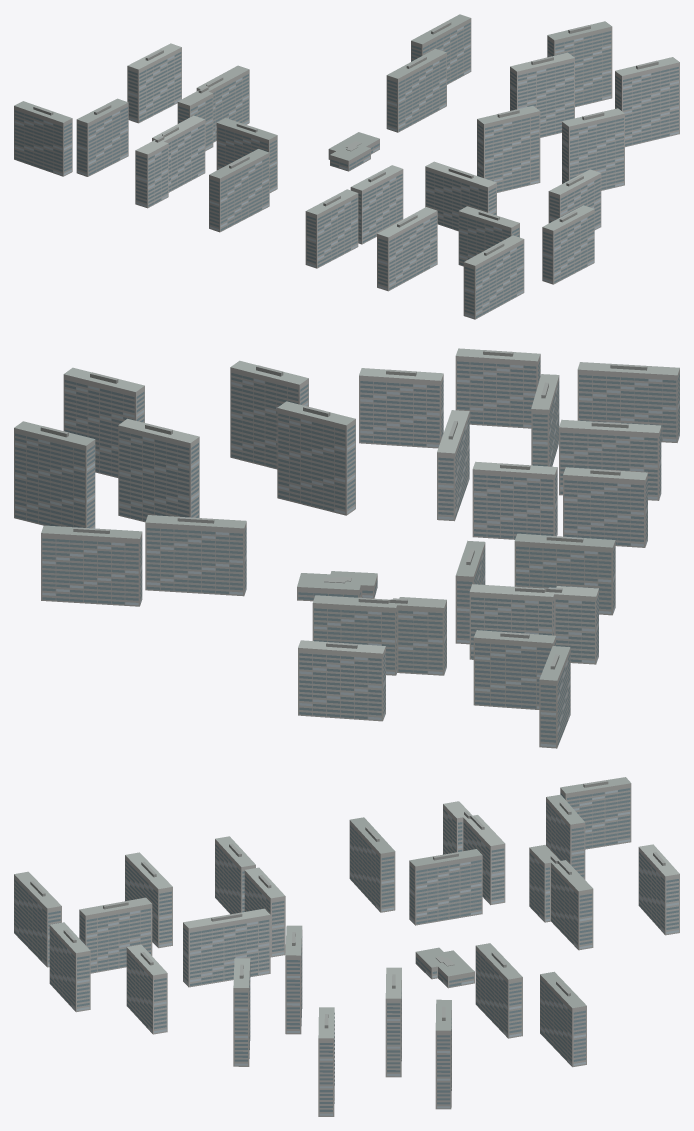
File: apt-a15807606.glb
The picture shows the model from 3 angles, top to bottom: view 1: azimuth 30°, elevation 25°; view 2: azimuth 150°, elevation 25°; view 3: azimuth 270°, elevation 25°; orthographic projection. The views are drawn at different scales.
Parts seen in each view (by area): view 1: apt-a15807606; view 2: apt-a15807606; view 3: apt-a15807606.
Boxes of the visible parts, box(x1,y1,x2,y2) form: apt-a15807606: box(14, 14, 679, 319); apt-a15807606: box(14, 348, 679, 748); apt-a15807606: box(14, 777, 679, 1116).
Bounding box in the file's own units: 467 × 63.4 × 468.
